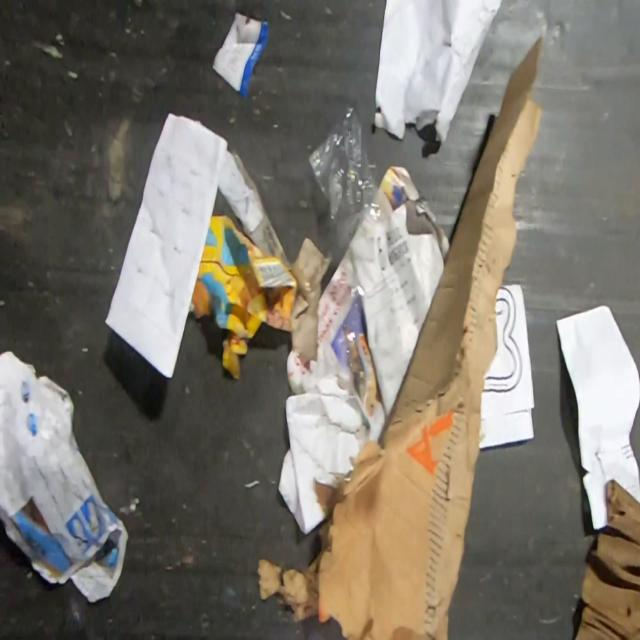cardboard: (256, 35, 544, 639), (188, 213, 336, 382), (555, 304, 640, 530)
soft_plastic: (307, 102, 396, 394)
